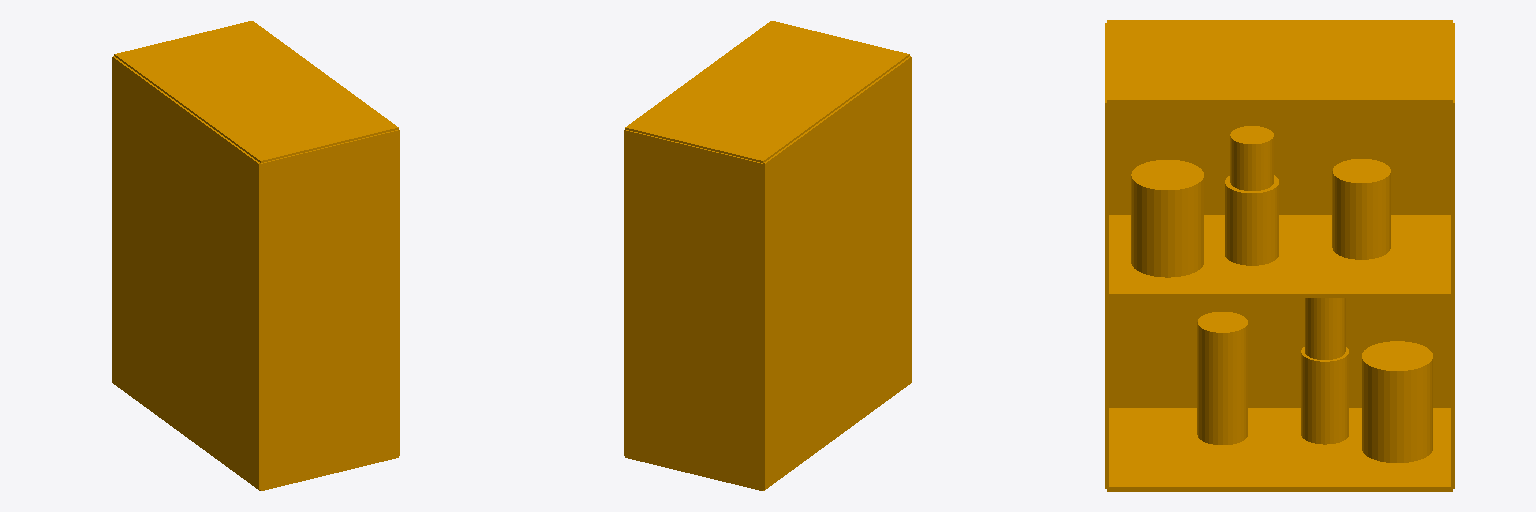
URDF robot description (syn_can_cabinet_837):
<?xml version="1.0" ?>
<robot name="syn_can_cabinet_837">
    <link concave="yes" name="base_link">
        <inertial>
            <origin rpy="0 0 0" xyz="0 0 0"/>
            <mass value="0.0"/>
            <inertia ixx="1e-08" ixy="0" ixz="0" iyy="1e-08" iyz="0" izz="1e-08"/>
        </inertial>
        <visual>
            <origin xyz="0 0 0" rpy="0 0 0" />
            <geometry>
                <mesh filename="syn_can_cabinet_837.obj" scale="1.000000 1.000000 1.000000"/>
            </geometry>         
        </visual>

        <collision concave="yes">
            <origin xyz="0 0 0" rpy="0 0 0"/>
            <geometry>
                <mesh filename="syn_can_cabinet_837.obj" scale="1.000000 1.000000 1.000000"/>
            </geometry>
        </collision>
    </link>
</robot>
    

--- What the picture shows (computed from the rendered views, not written in the file) ---
The picture shows the robot from 3 angles, left to right: view 1: azimuth 30°, elevation 25°; view 2: azimuth 150°, elevation 25°; view 3: azimuth 270°, elevation 25°; orthographic projection.
Robot: syn_can_cabinet_837 — 1 links, 0 joints (none); root link base_link; default pose: every joint at zero.
Links seen in each view (by area): view 1: base_link; view 2: base_link; view 3: base_link.
Link boxes in pixels (bbox=[...]): base_link: bbox=[112, 21, 399, 490]; base_link: bbox=[624, 21, 911, 490]; base_link: bbox=[1105, 20, 1454, 491].
Bounding box of the posed robot: 0.1686 × 0.3077 × 0.3796 m (x, y, z).
Meshes: 1 distinct files referenced, 1 mesh visuals loaded (1 OBJ).
